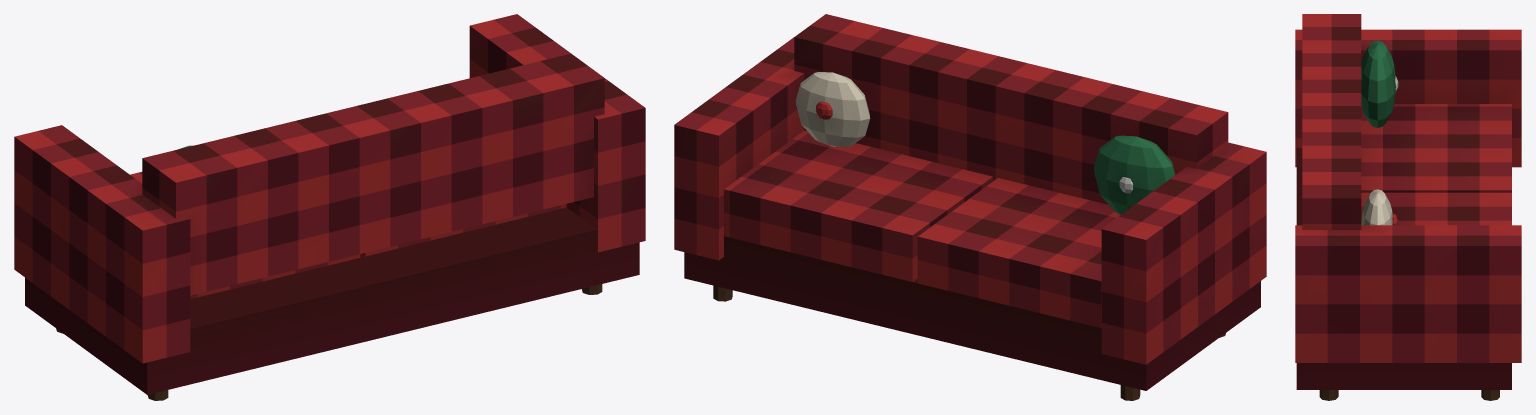
Rendered from xmas_check_sofa.glb.
The picture shows the model from 3 angles, left to right: view 1: azimuth 30°, elevation 25°; view 2: azimuth 150°, elevation 25°; view 3: azimuth 270°, elevation 25°; orthographic projection. The views are drawn at different scales.
Bounding box in the file's own units: 1.9 × 0.81 × 0.84.
